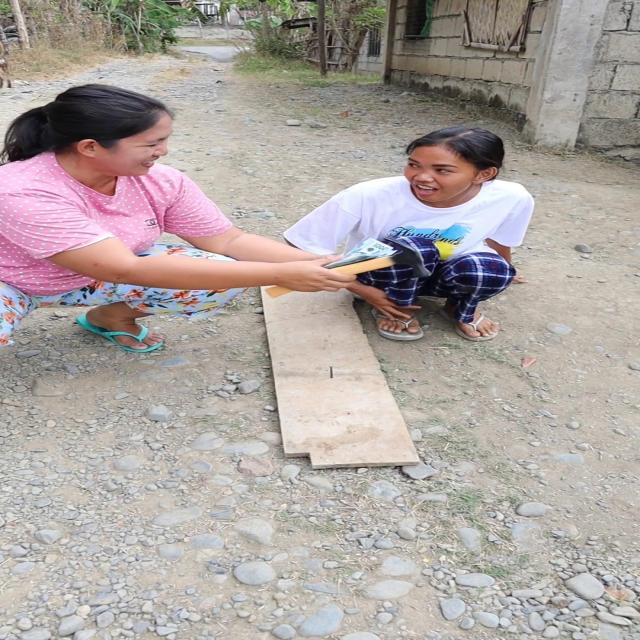hammer: (264, 232, 436, 301)
